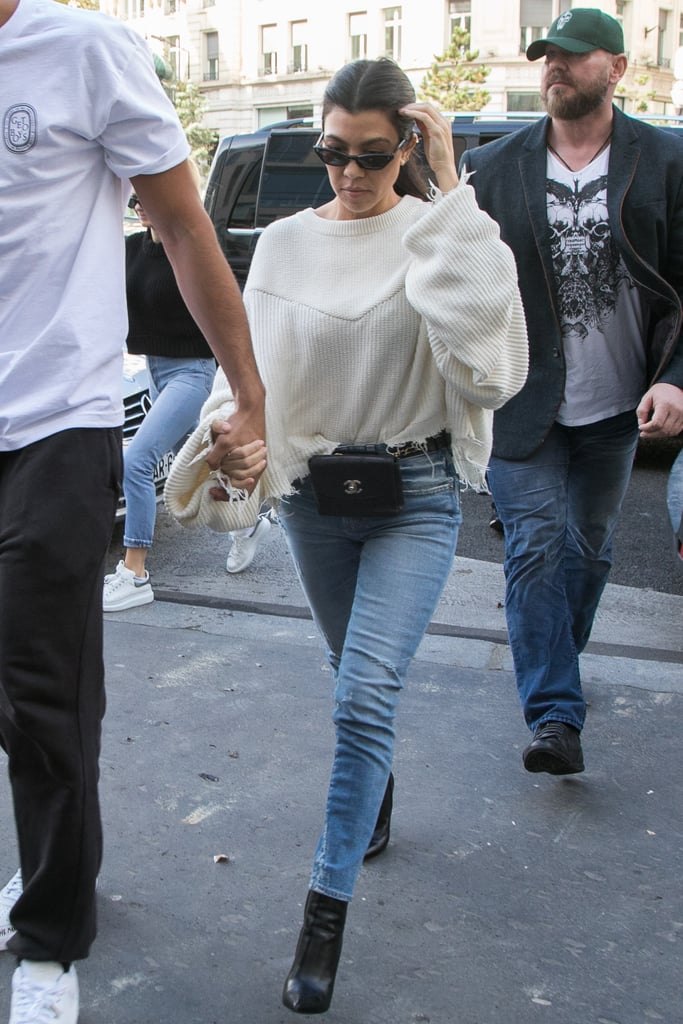jeans: (261, 442, 460, 901), (474, 403, 640, 728), (118, 353, 231, 565)
sunglasses: (304, 140, 405, 183)
